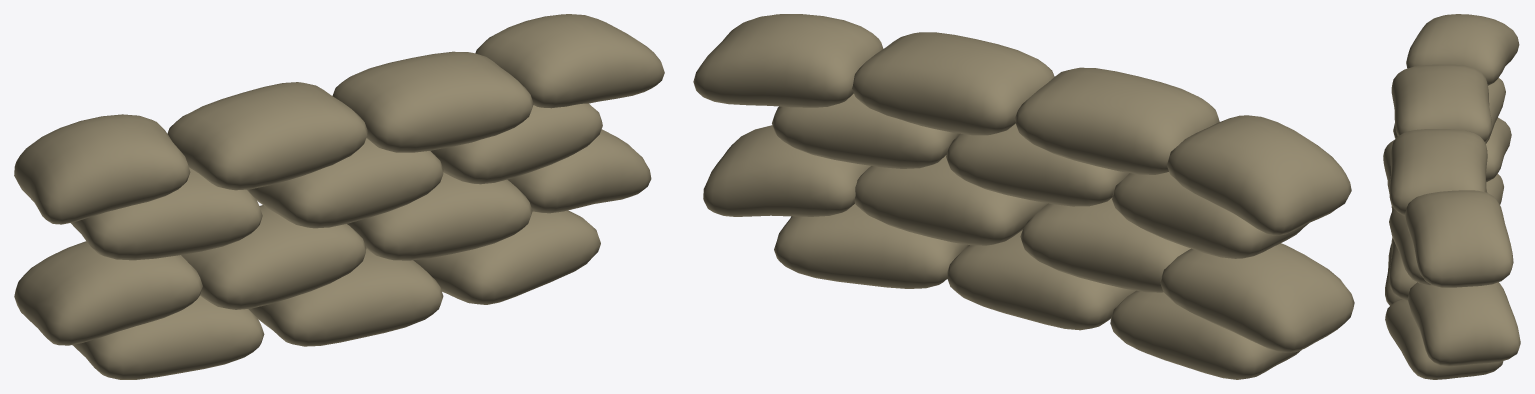
The model's file is prop_sandbags.glb.
3 renders of one model, left to right at view 1: azimuth 30°, elevation 25°; view 2: azimuth 150°, elevation 25°; view 3: azimuth 270°, elevation 25°, orthographic. The views are drawn at different scales.
Visible parts, largest first — view 1: SackTrench; view 2: SackTrench; view 3: SackTrench.
Boxes of the visible parts, <box> form: SackTrench: <box>14,14,664,379</box>; SackTrench: <box>693,14,1354,379</box>; SackTrench: <box>1383,14,1520,379</box>.
Size of the model in its own units: 3.16 by 1.19 by 0.775.
